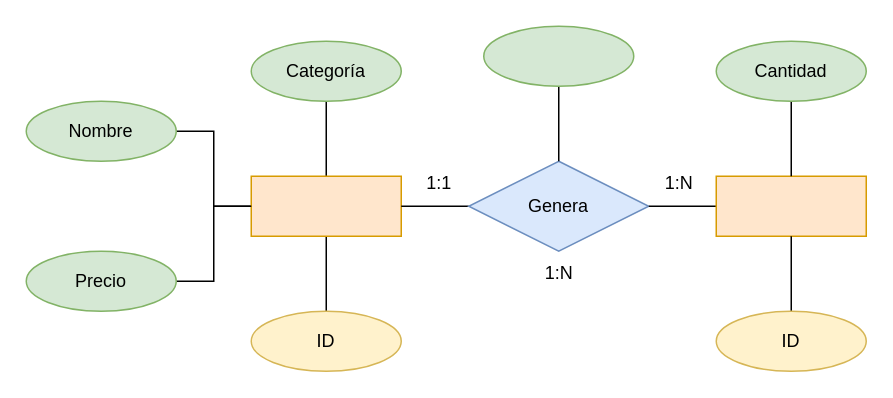
Image size: 893x398. Some labels were removed from this diagram. The centre of each missing label's shape, as x and y in pixels:
"Fecha" belongs at pixel 558 55.
"Producto" belongs at pixel 325 205.
"Ventas" belongs at pixel 790 205.
